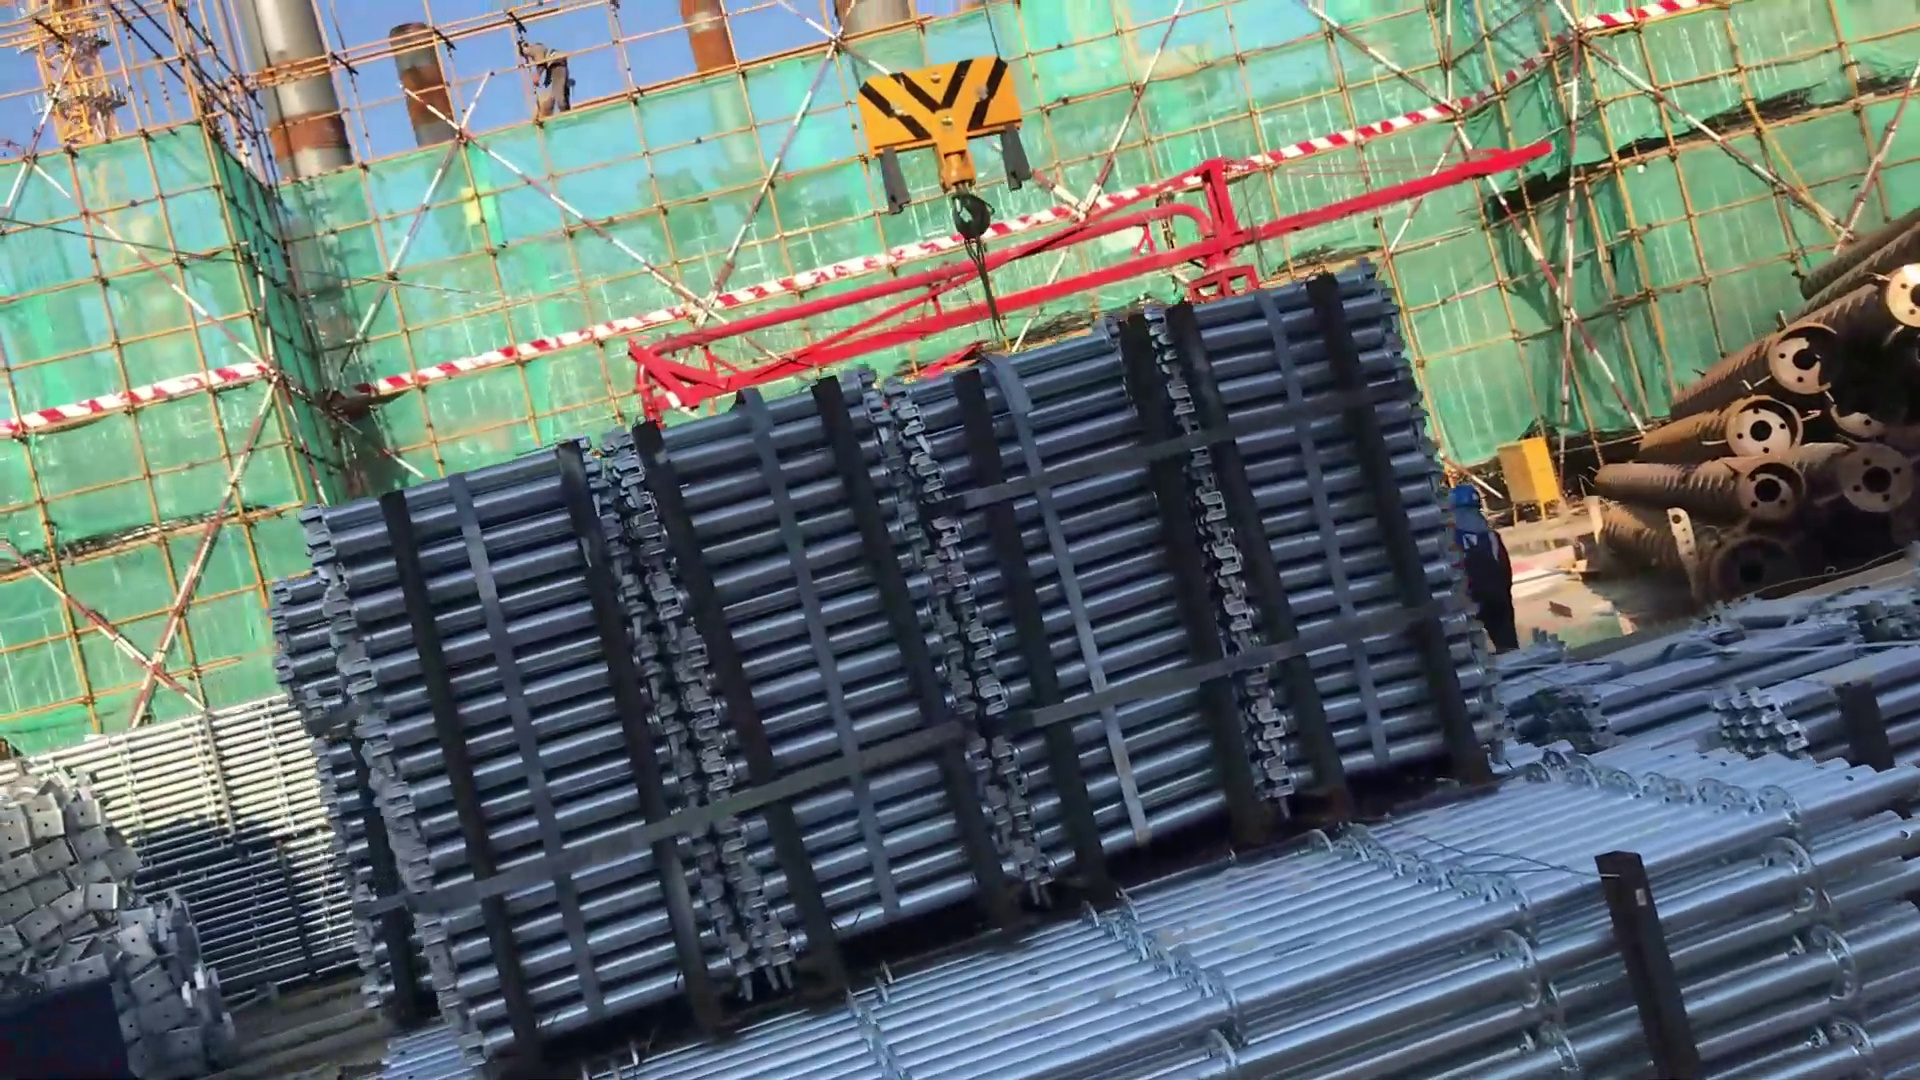ebox: (1498, 426, 1566, 530)
helmet: (1445, 480, 1495, 530)
hook: (840, 59, 1056, 298)
person: (1448, 476, 1534, 660), (515, 36, 588, 122)
scaffold: (647, 726, 1920, 1080), (225, 484, 773, 1024), (597, 367, 1062, 976), (869, 312, 1300, 888), (1118, 260, 1523, 813), (1471, 568, 1919, 829), (33, 669, 372, 989)
vest: (1448, 523, 1518, 599)
